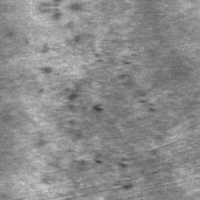rolled-in_scale: (62, 67, 136, 191)
